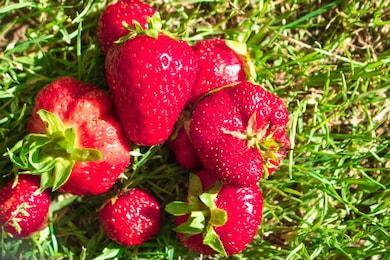Fresa: (23, 70, 136, 201), (102, 21, 199, 152), (186, 79, 300, 189), (170, 162, 269, 260), (93, 184, 169, 252)
